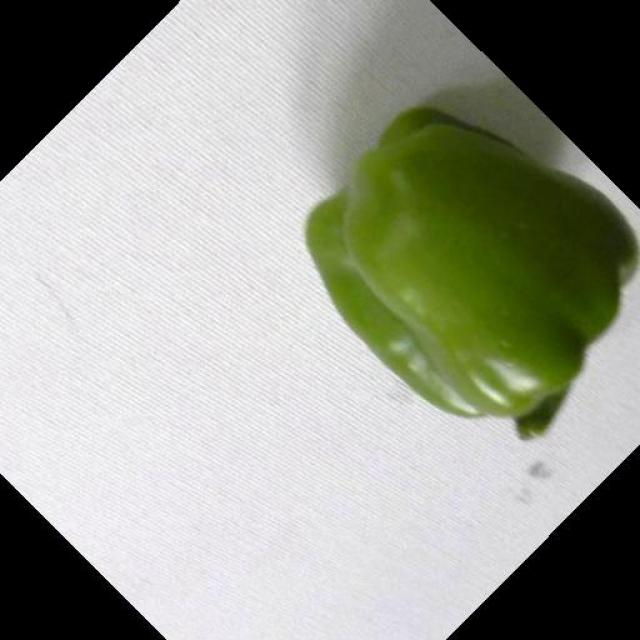Fresh_Capsicum: (304, 78, 640, 436)
